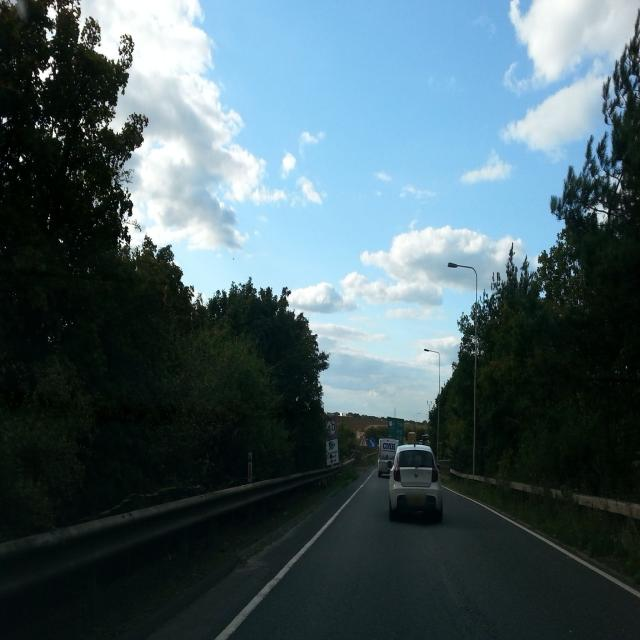car: (388, 443, 444, 524), (377, 438, 397, 478)
